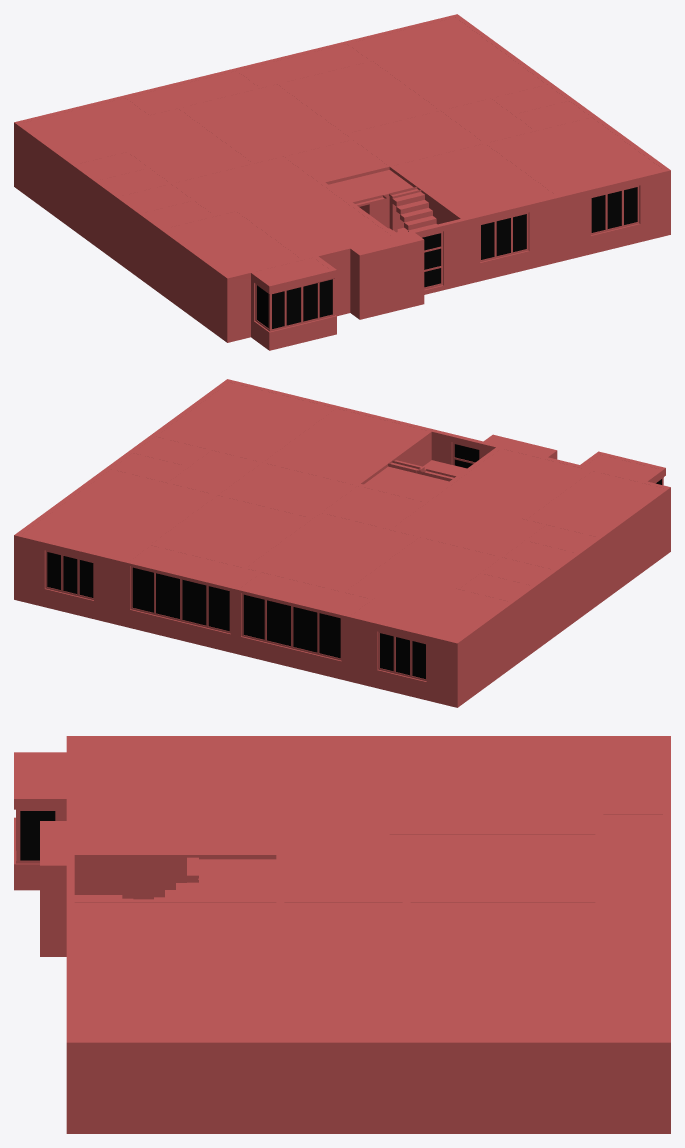
File: SM_house_section_5.fbx
3 views of the same model, one above another, from view 1: azimuth 30°, elevation 25°; view 2: azimuth 150°, elevation 25°; view 3: azimuth 270°, elevation 25° (orthographic). The views are drawn at different scales.
Visible parts, largest first — view 1: Cube_12; view 2: Cube_12; view 3: Cube_12.
Boxes of the visible parts, x1=… form: Cube_12: x1=14, y1=14, x2=670, y2=350; Cube_12: x1=14, y1=379, x2=670, y2=707; Cube_12: x1=14, y1=736, x2=670, y2=1133.
Bounding box in the file's own units: 1800 × 250 × 1631.
